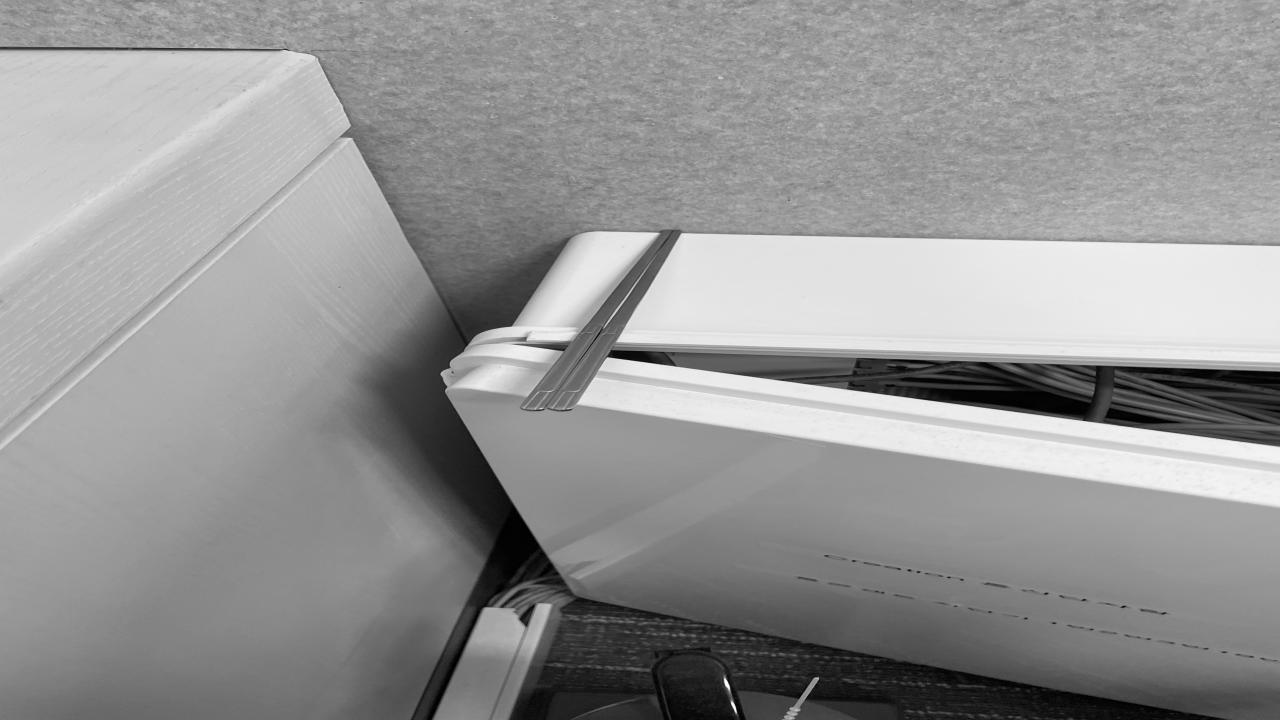chopstick: (514, 229, 684, 410)
